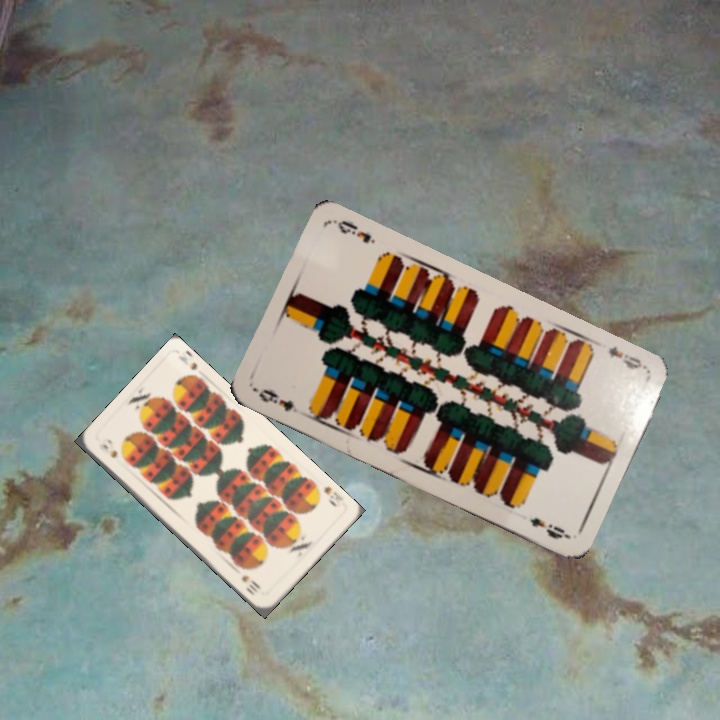E9: (252, 384, 300, 416), (604, 341, 650, 373)
S10: (320, 482, 346, 510), (94, 439, 121, 461)
